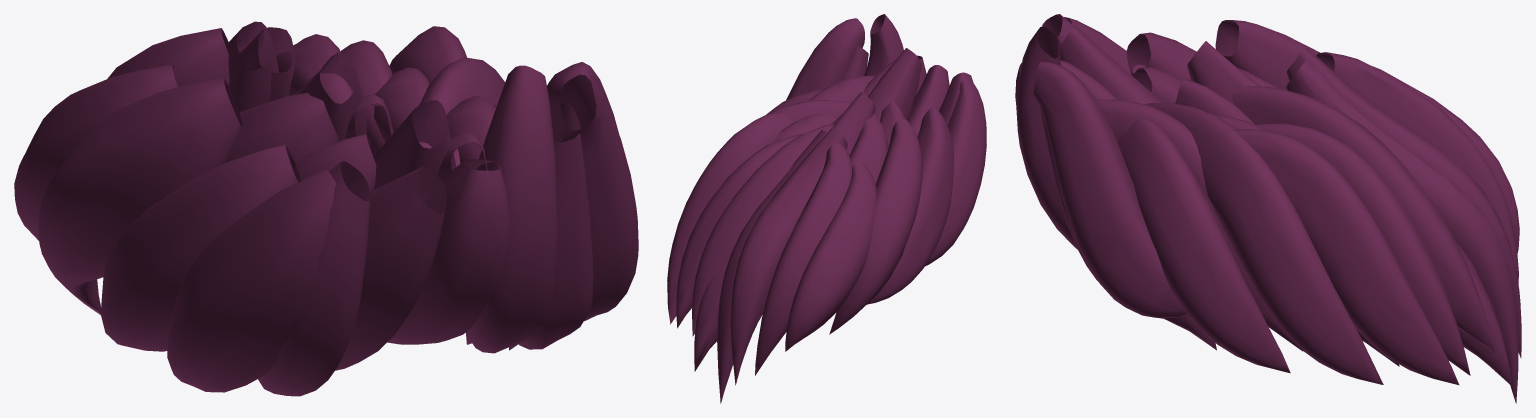
The model's file is anime_hair_3.glb.
3 views of the same model, side by side, from view 1: azimuth 30°, elevation 25°; view 2: azimuth 150°, elevation 25°; view 3: azimuth 270°, elevation 25° (orthographic). The views are drawn at different scales.
Parts seen in each view (by area): view 1: NurbsPath.010; view 2: NurbsPath.010; view 3: NurbsPath.010.
Part boxes in pixels (<box>): NurbsPath.010: <box>14,21,638,396</box>; NurbsPath.010: <box>667,14,986,403</box>; NurbsPath.010: <box>1015,14,1521,403</box>.
Size of the model in its own units: 0.5095 by 0.5869 by 0.7101.
